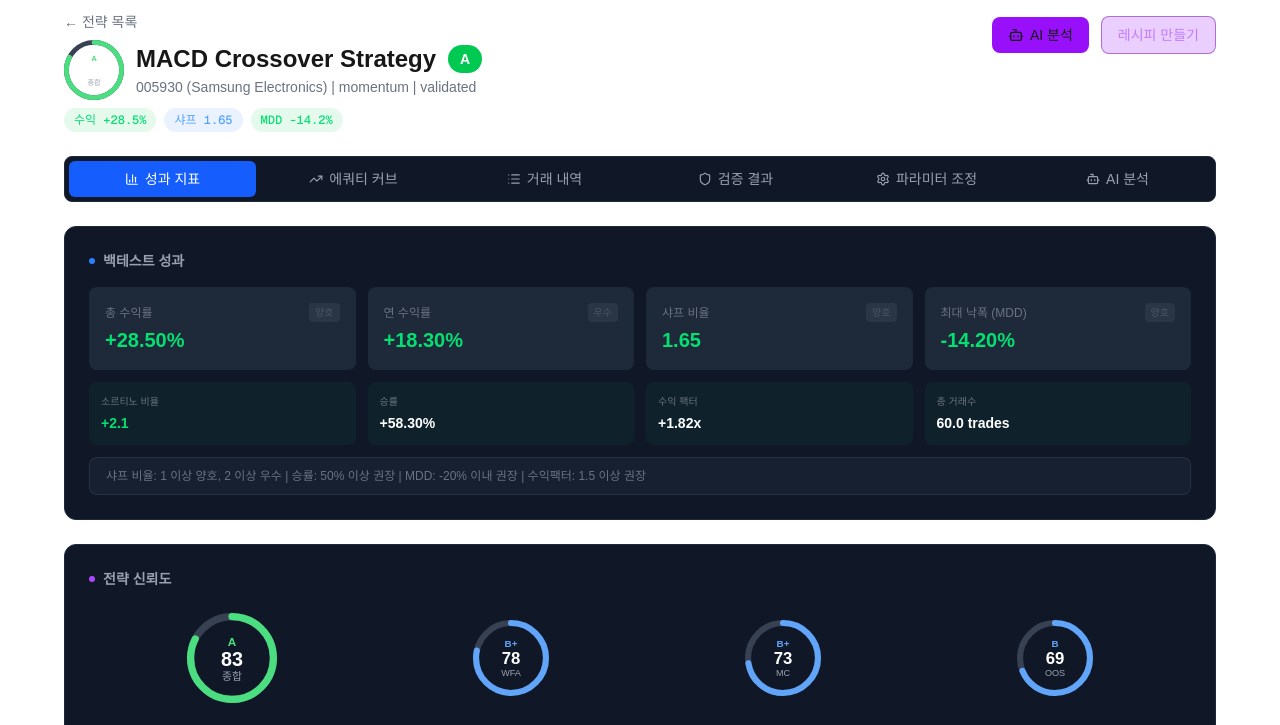
Test: StrategyDetailPage › switches to equity tab and shows chart info
This screenshot has width=1280, height=725.
Click the button "에쿼티 커브": [354, 179] box [260,161,447,197]
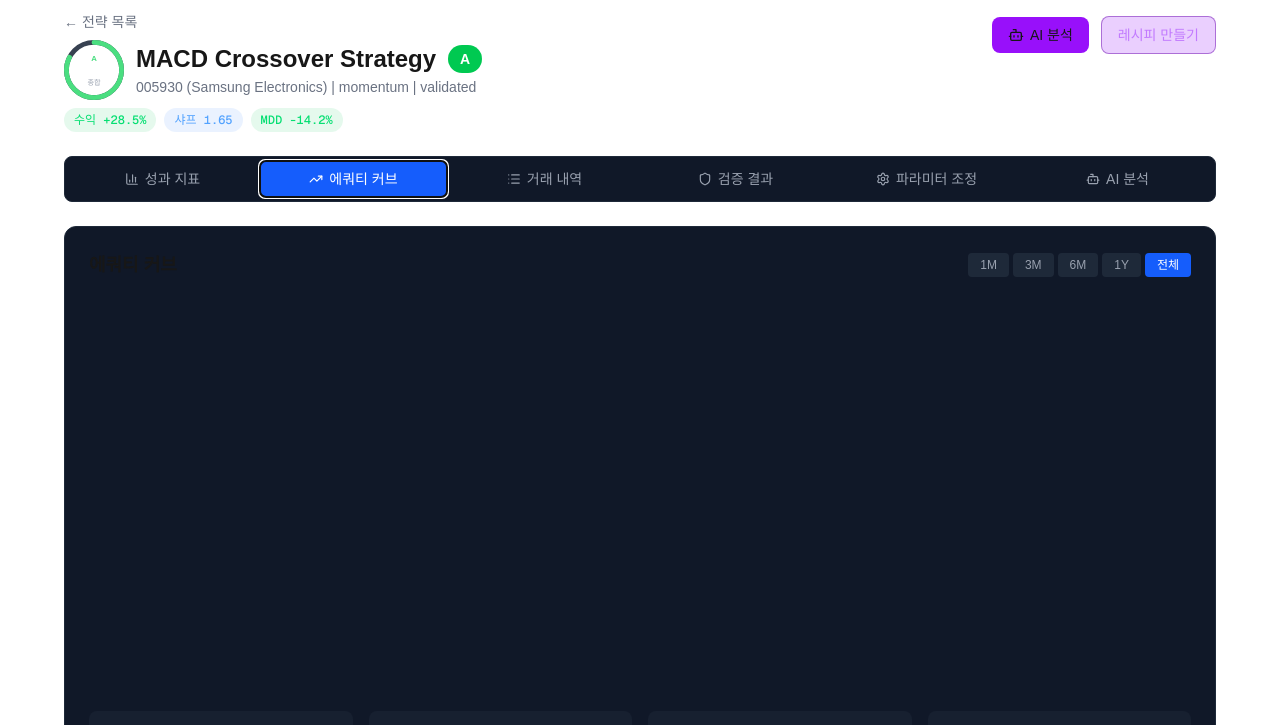
Expected: the button "전체" is shown, [1145,253,1191,277]
